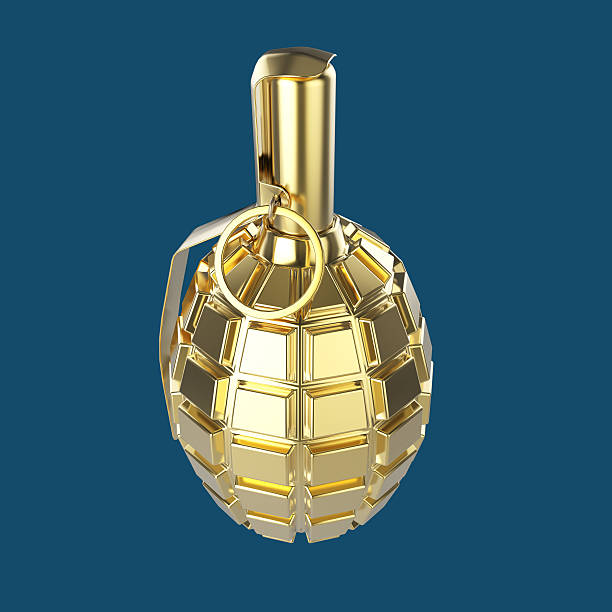e1: (160, 44, 437, 544)
